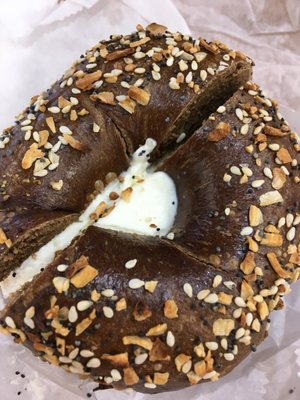sushi: (0, 7, 300, 397), (0, 22, 262, 219)
